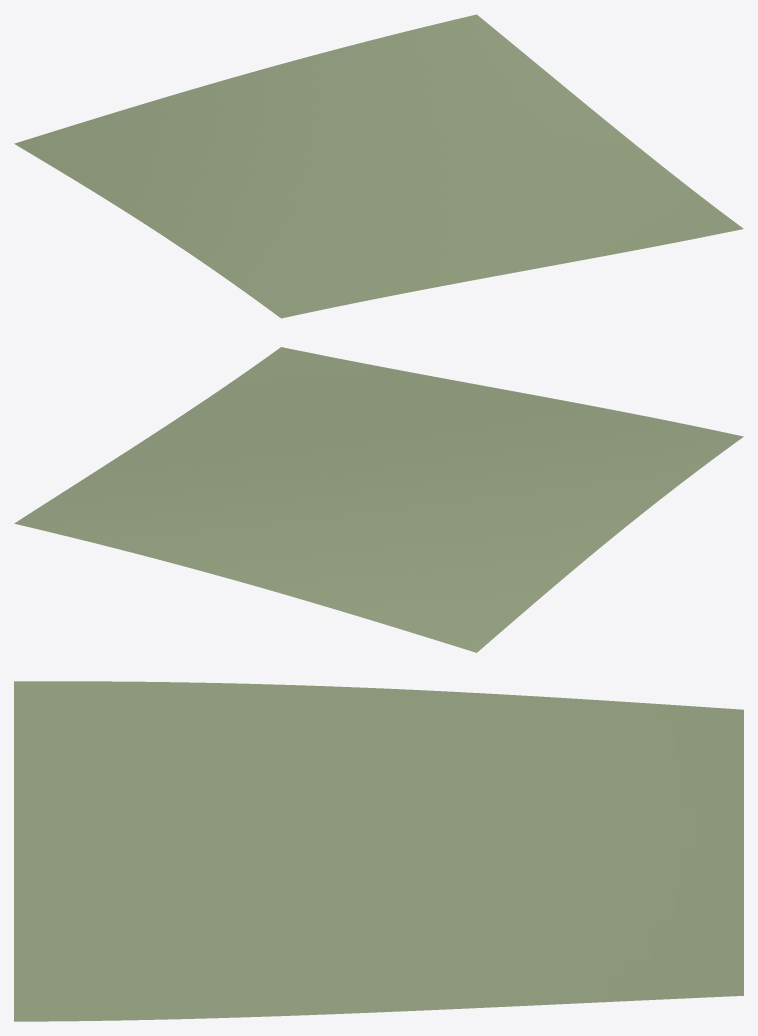
Rendered from alpine-5-12.glb.
3 views of the same model, one above another, from view 1: azimuth 30°, elevation 25°; view 2: azimuth 150°, elevation 25°; view 3: azimuth 270°, elevation 25° (orthographic). The views are drawn at different scales.
Parts seen in each view (by area): view 1: alpine-5-12; view 2: alpine-5-12; view 3: alpine-5-12.
Boxes of the visible parts, <box> form: alpine-5-12: <box>14,14,743,318</box>; alpine-5-12: <box>14,347,743,652</box>; alpine-5-12: <box>14,681,743,1021</box>.
Bounding box in the file's own units: 256 × 12.37 × 256.
